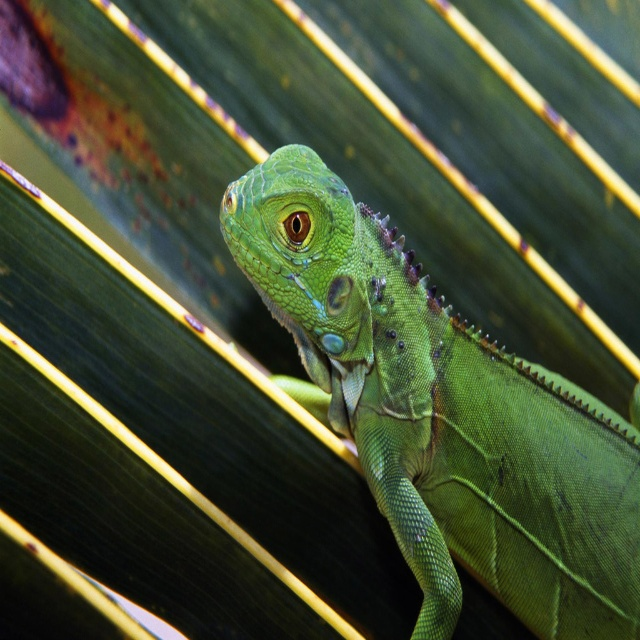Lizard: (214, 146, 632, 640)
